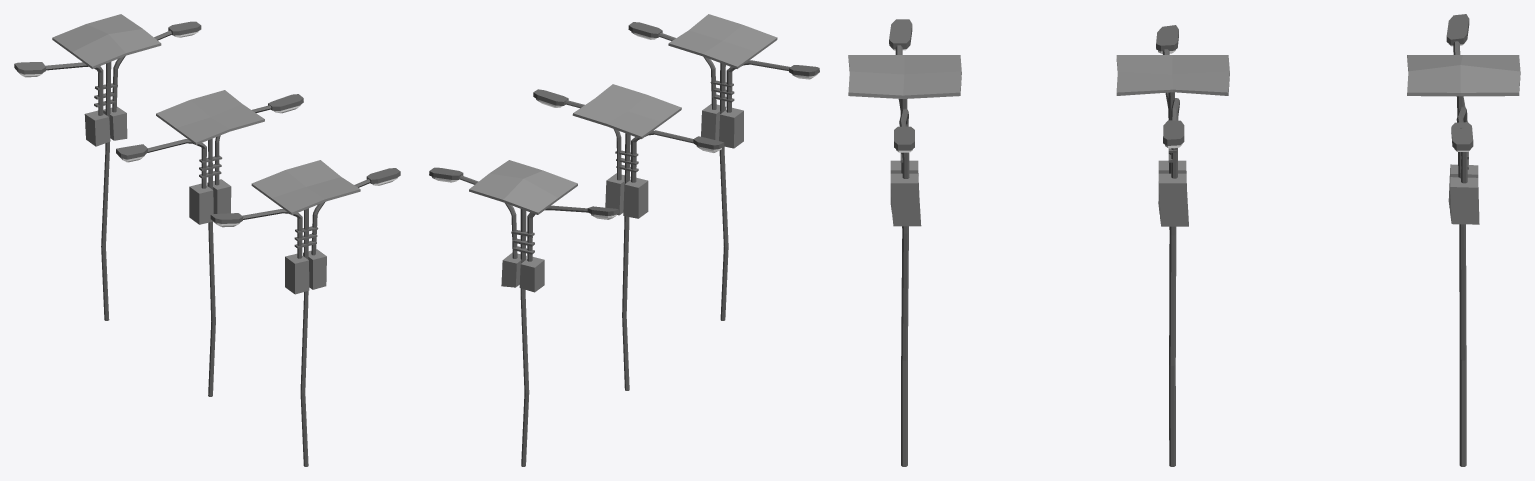
The model's file is lampu jalan moden 2.fbx.
3 views of the same model, side by side, from view 1: azimuth 30°, elevation 25°; view 2: azimuth 150°, elevation 25°; view 3: azimuth 270°, elevation 25° (orthographic). The views are drawn at different scales.
Visible parts, largest first — view 1: Cube.001, Cube.007, Cube.011; view 2: Cube.007, Cube.001, Cube.011; view 3: Cube.011, Cube.001, Cube.007.
Boxes of the visible parts, box(x1,y1,x2,y2) form: Cube.001: box(210, 160, 400, 466); Cube.007: box(116, 90, 303, 396); Cube.011: box(14, 14, 201, 320); Cube.007: box(533, 84, 724, 390); Cube.001: box(628, 14, 819, 320); Cube.011: box(429, 160, 618, 466); Cube.011: box(1407, 14, 1520, 466); Cube.001: box(848, 19, 961, 466); Cube.007: box(1116, 25, 1229, 466).
Bounding box in the file's own units: 537 × 791 × 1200.
